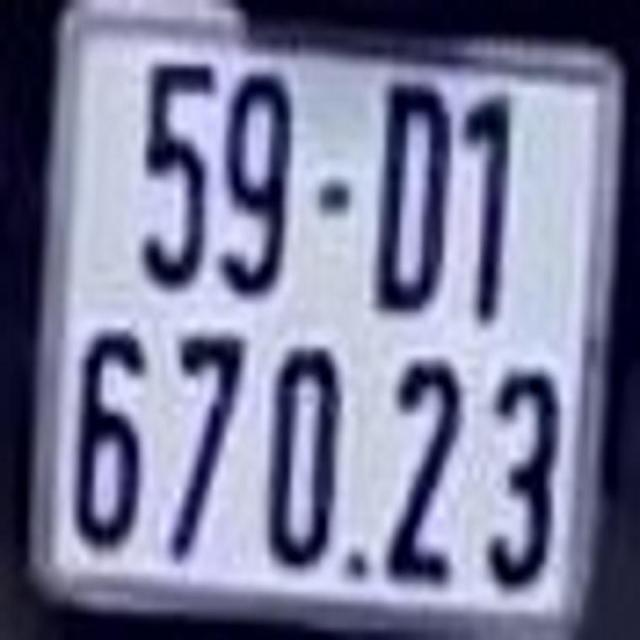0: (272, 348, 330, 568)
1: (464, 89, 506, 329)
2: (392, 353, 458, 585)
3: (495, 366, 553, 588)
5: (142, 60, 212, 282)
6: (75, 326, 143, 540)
7: (175, 332, 244, 564)
9: (223, 73, 291, 297)
D: (385, 78, 450, 316)
